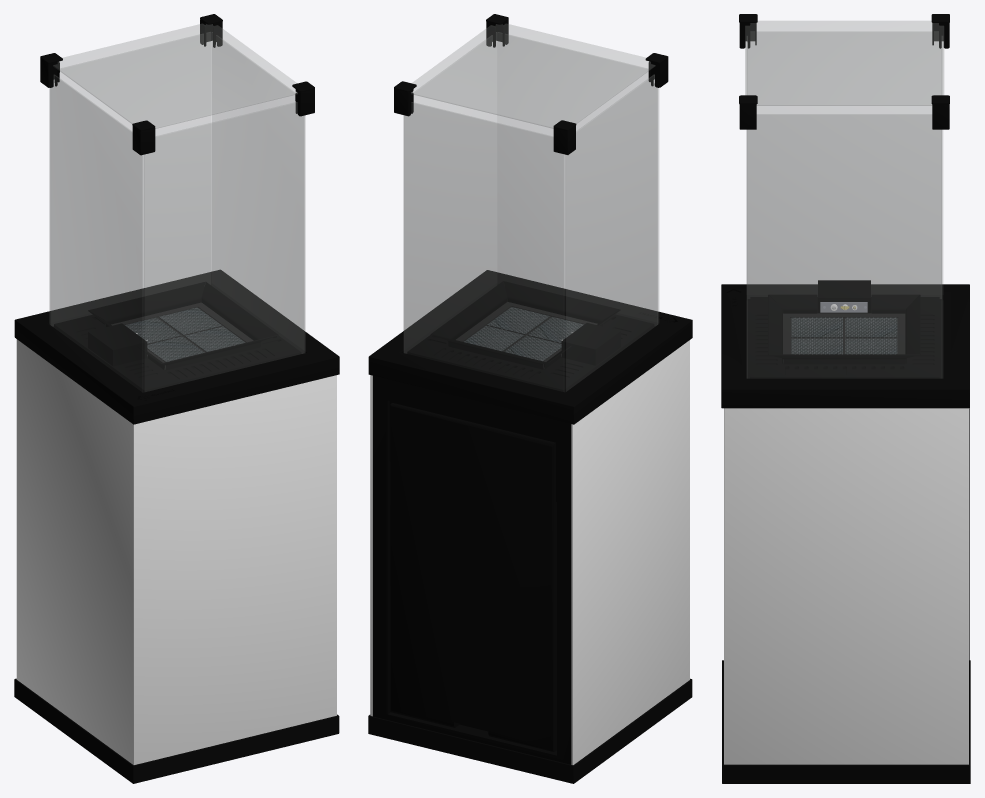
File: patio.glb
The picture shows the model from 3 angles, left to right: view 1: azimuth 30°, elevation 25°; view 2: azimuth 150°, elevation 25°; view 3: azimuth 270°, elevation 25°; orthographic projection. The views are drawn at different scales.
Visible parts, largest first — view 1: белый_низ_1, стекло_1, черн, решетка_черн_с_текст 1, решетка_черн_с_текст; view 2: черн, стекло_1, белый_низ_1, решетка_черн_с_текст 1, решетка_черн_с_текст; view 3: белый_низ_1, стекло_1, черн, решетка_черн_с_текст 1, решетка_черн_с_текст.
Boxes of the visible parts, x1=… form: белый_низ_1: x1=16, y1=339, x2=336, y2=764; стекло_1: x1=49, y1=24, x2=305, y2=392; черн: x1=14, y1=14, x2=339, y2=783; решетка_черн_с_текст 1: x1=125, y1=307, x2=245, y2=361; решетка_черн_с_текст: x1=111, y1=302, x2=253, y2=369; черн: x1=368, y1=14, x2=692, y2=783; стекло_1: x1=403, y1=24, x2=658, y2=391; белый_низ_1: x1=370, y1=340, x2=689, y2=764; решетка_черн_с_текст 1: x1=464, y1=307, x2=583, y2=361; решетка_черн_с_текст: x1=456, y1=302, x2=597, y2=368; белый_низ_1: x1=724, y1=408, x2=968, y2=764; стекло_1: x1=745, y1=21, x2=943, y2=378; черн: x1=721, y1=14, x2=970, y2=783; решетка_черн_с_текст 1: x1=791, y1=317, x2=897, y2=354; решетка_черн_с_текст: x1=783, y1=313, x2=905, y2=363.
Bounding box in the file's own units: 0.4 × 1.19 × 0.4012.
Materials: 10 (1 with a texture image).
